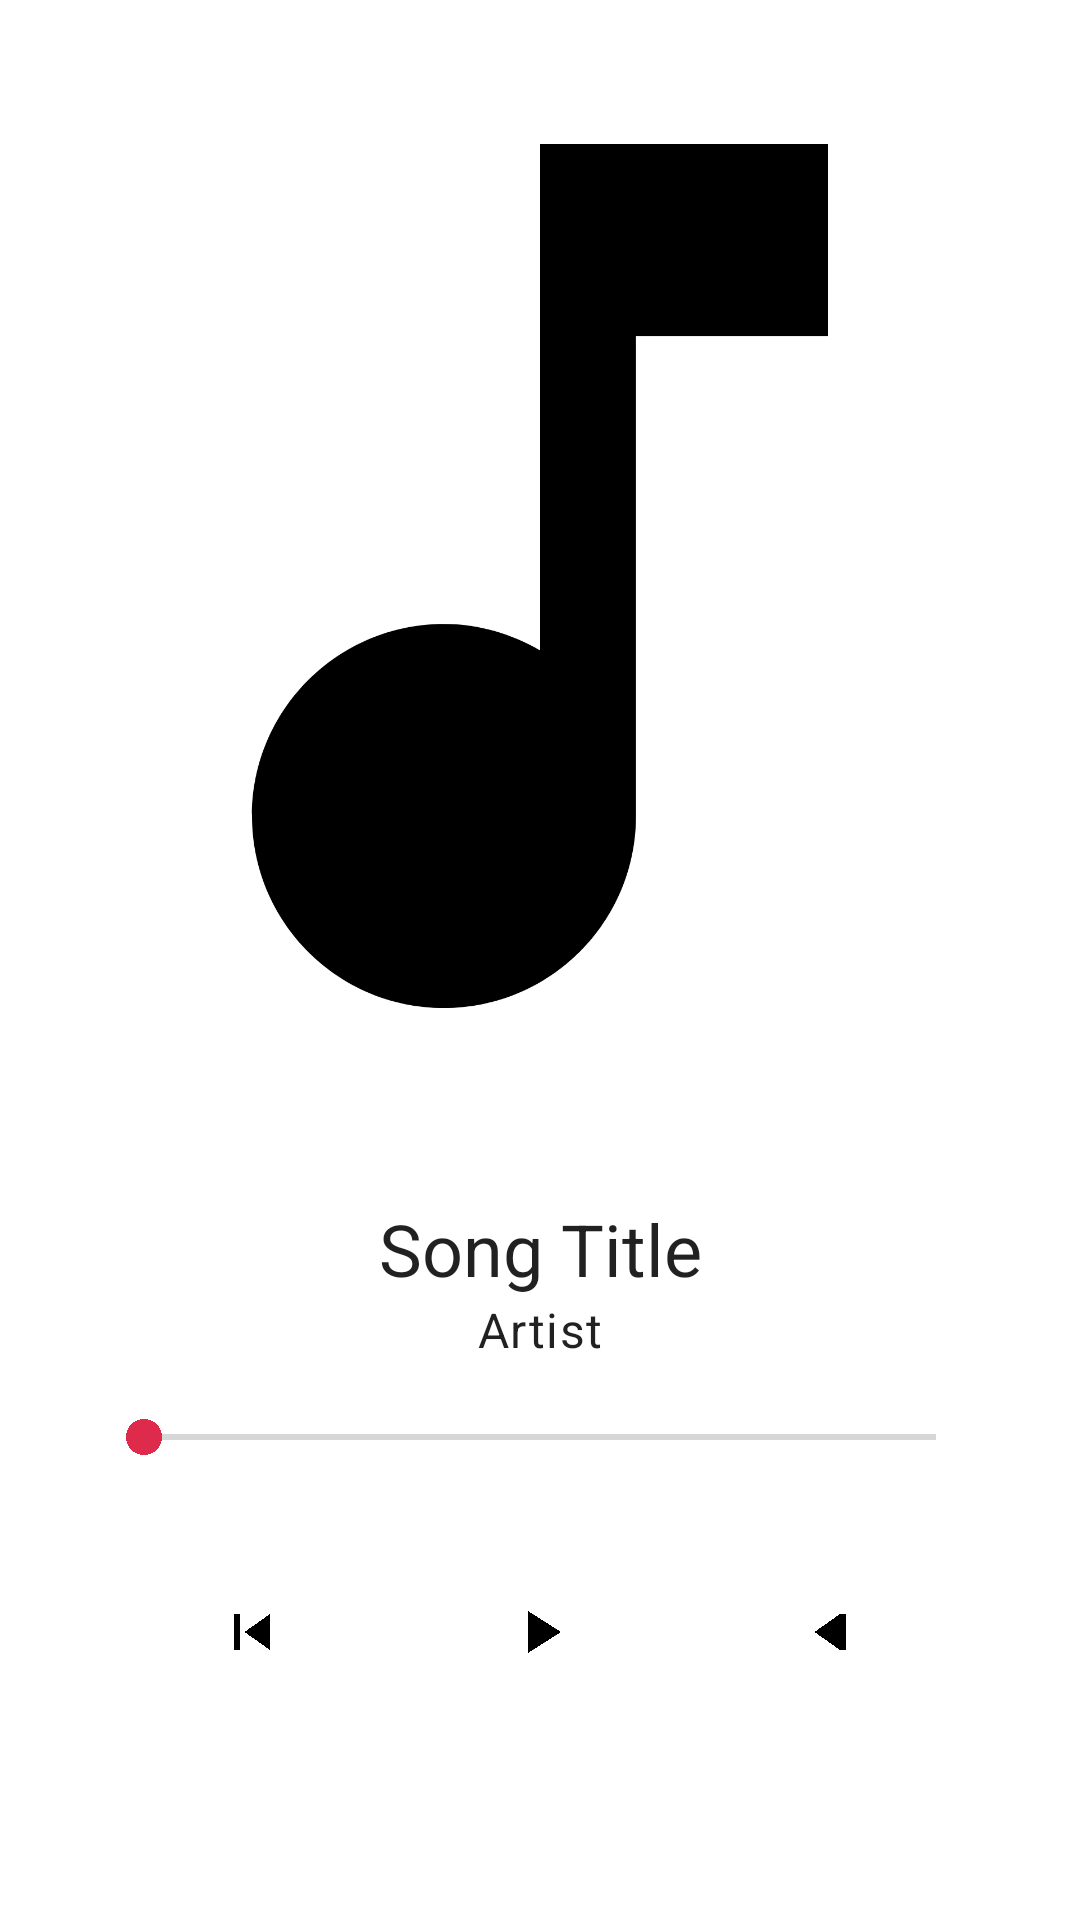

Named icons in this screenshot (1080*1920) and their centers, (x=x, y=y):
play: (x=544, y=1632)
previous: (x=252, y=1632)
